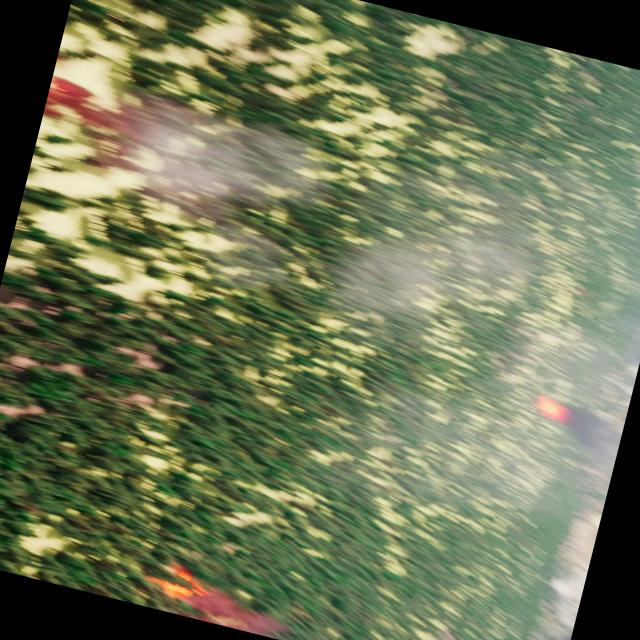fire: (156, 562, 212, 604), (530, 392, 572, 426)
smoke: (66, 76, 554, 342), (205, 590, 290, 640), (565, 408, 625, 458)
